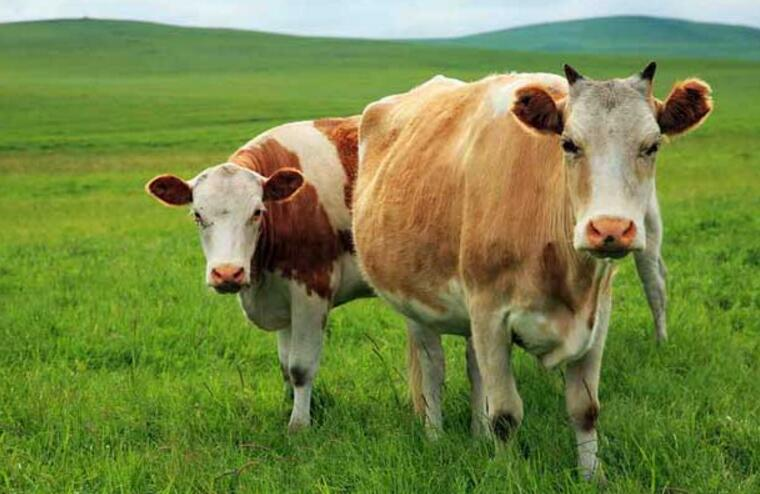background: (349, 59, 721, 482)
